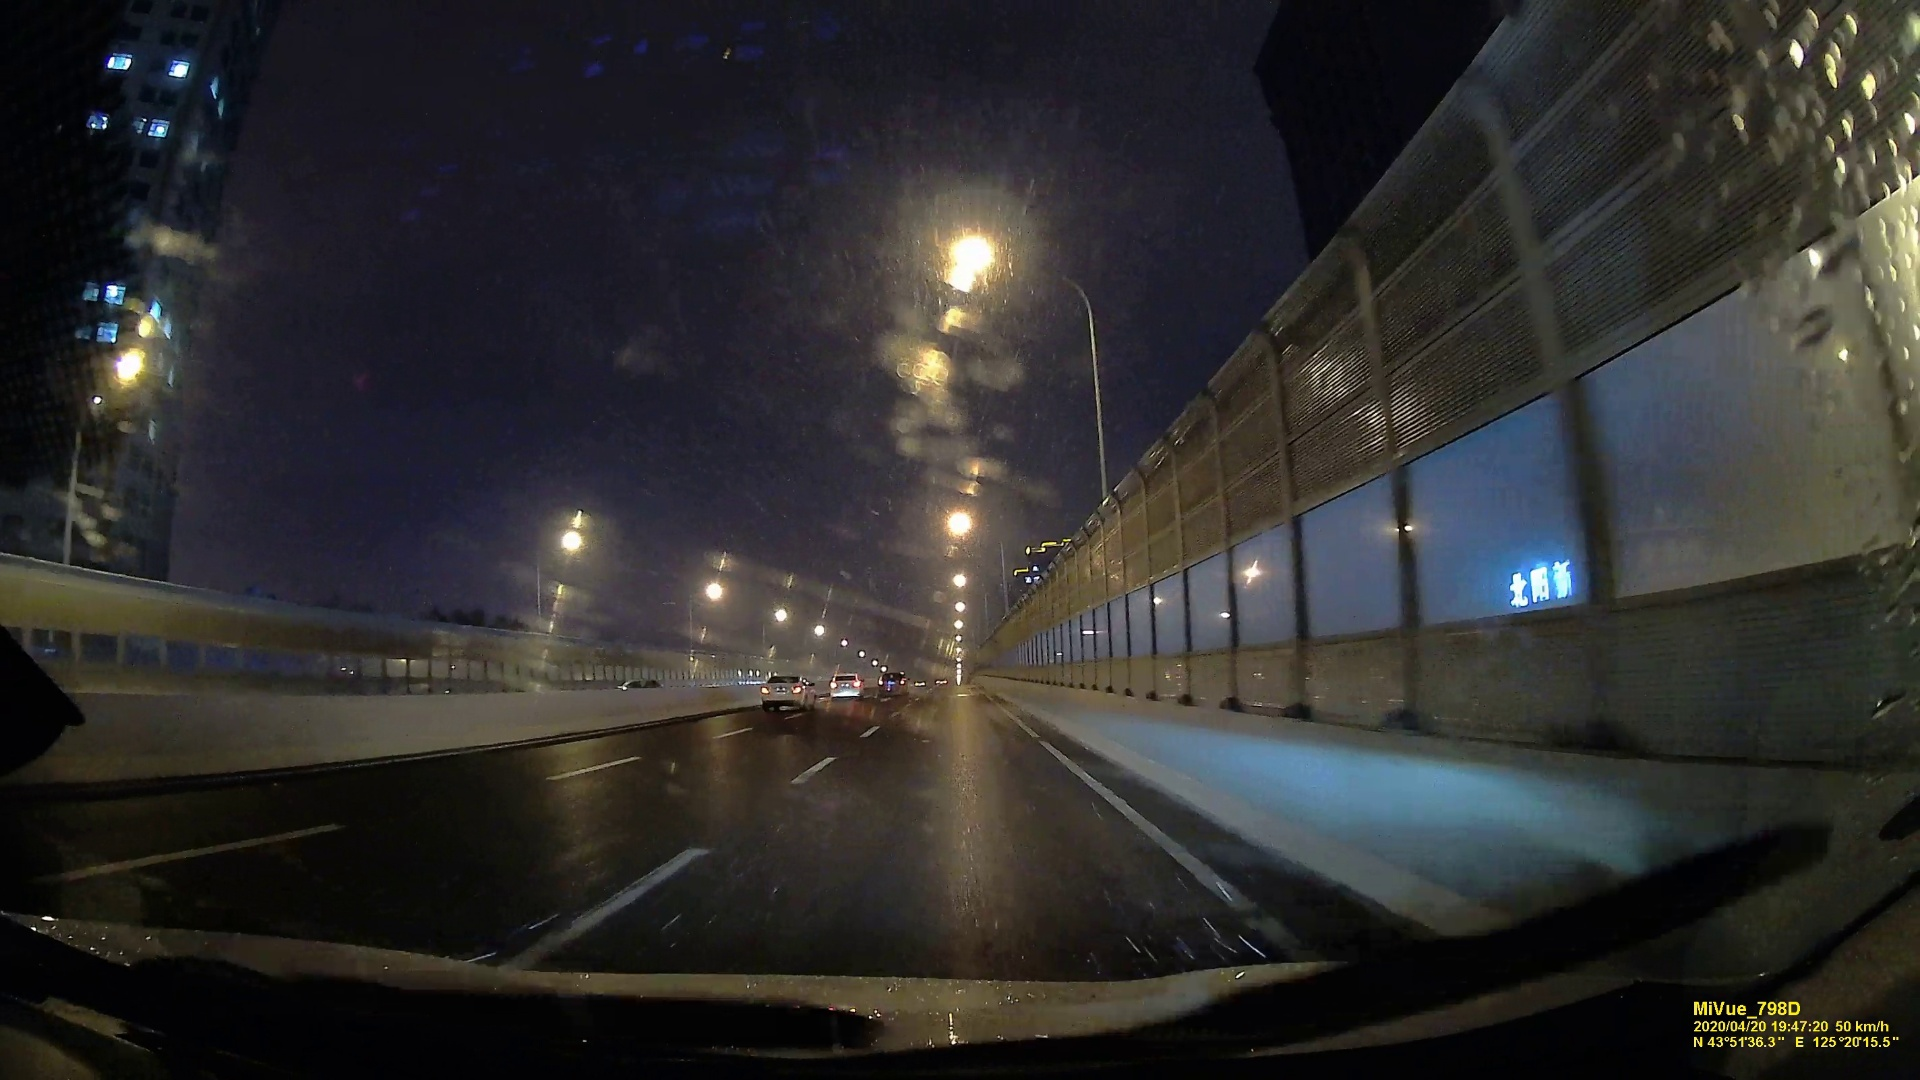vehicle: (760, 673, 814, 712), (876, 671, 910, 698), (829, 673, 862, 698)
